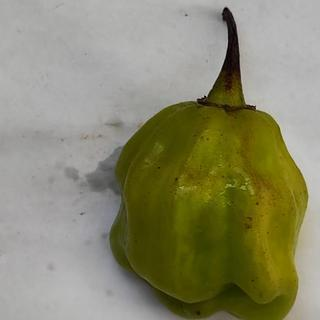Fly-bites: (249, 194, 266, 210), (238, 220, 258, 232), (243, 211, 257, 225), (150, 160, 165, 173), (186, 307, 206, 316), (172, 173, 183, 189)
